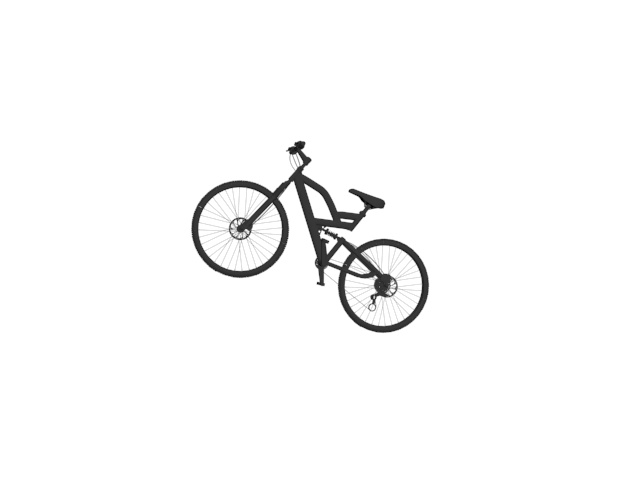bike: (185, 137, 432, 336)
